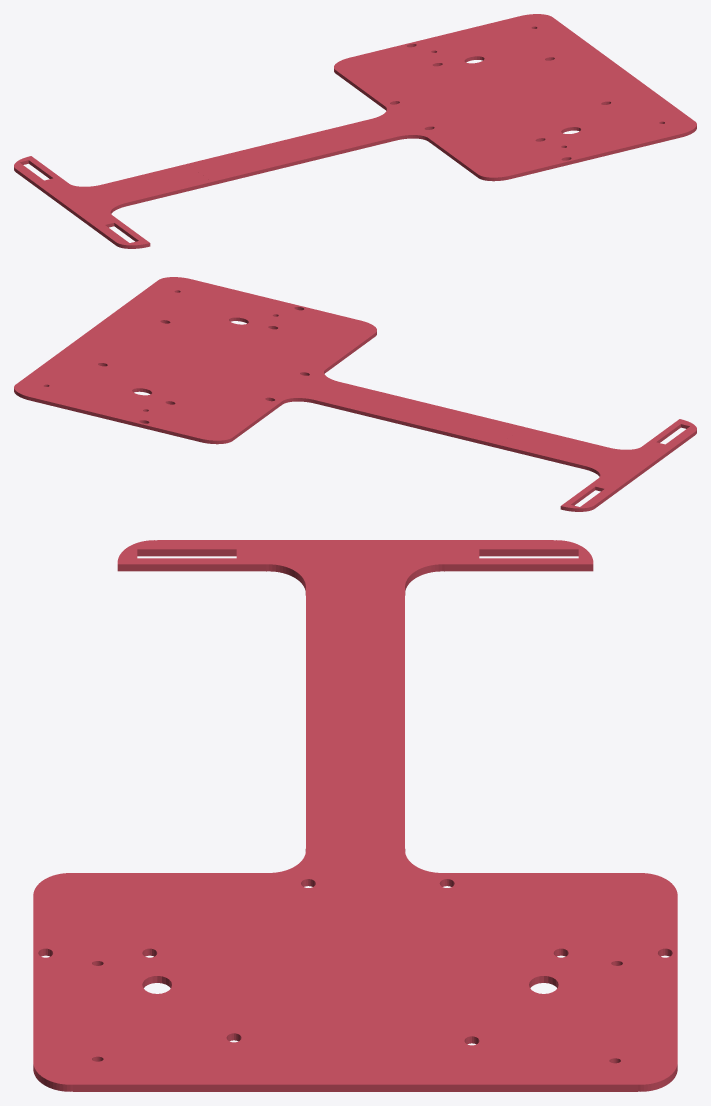
The model's file is Bodacious Sango-Densor.glb.
The picture shows the model from 3 angles, top to bottom: view 1: azimuth 30°, elevation 25°; view 2: azimuth 150°, elevation 25°; view 3: azimuth 270°, elevation 25°; orthographic projection. The views are drawn at different scales.
Visible parts, largest first — view 1: Mesh_Mesh_head_geo.001_lambert2SG.001; view 2: Mesh_Mesh_head_geo.001_lambert2SG.001; view 3: Mesh_Mesh_head_geo.001_lambert2SG.001.
Boxes of the visible parts, bbox=[...] form: Mesh_Mesh_head_geo.001_lambert2SG.001: bbox=[14, 14, 696, 248]; Mesh_Mesh_head_geo.001_lambert2SG.001: bbox=[14, 277, 696, 511]; Mesh_Mesh_head_geo.001_lambert2SG.001: bbox=[33, 540, 677, 1091].
Bounding box in the file's own units: 330 × 2.01 × 165.
